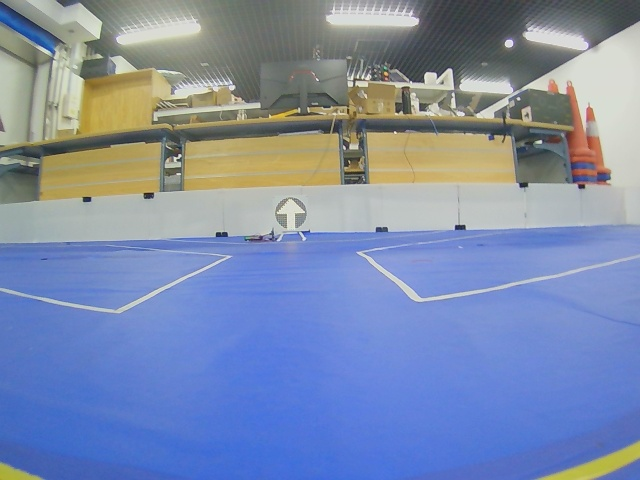straight_yellow: (277, 199, 304, 229)
